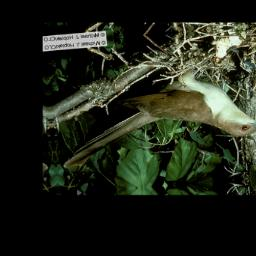Cuckoo: (55, 64, 256, 170)
